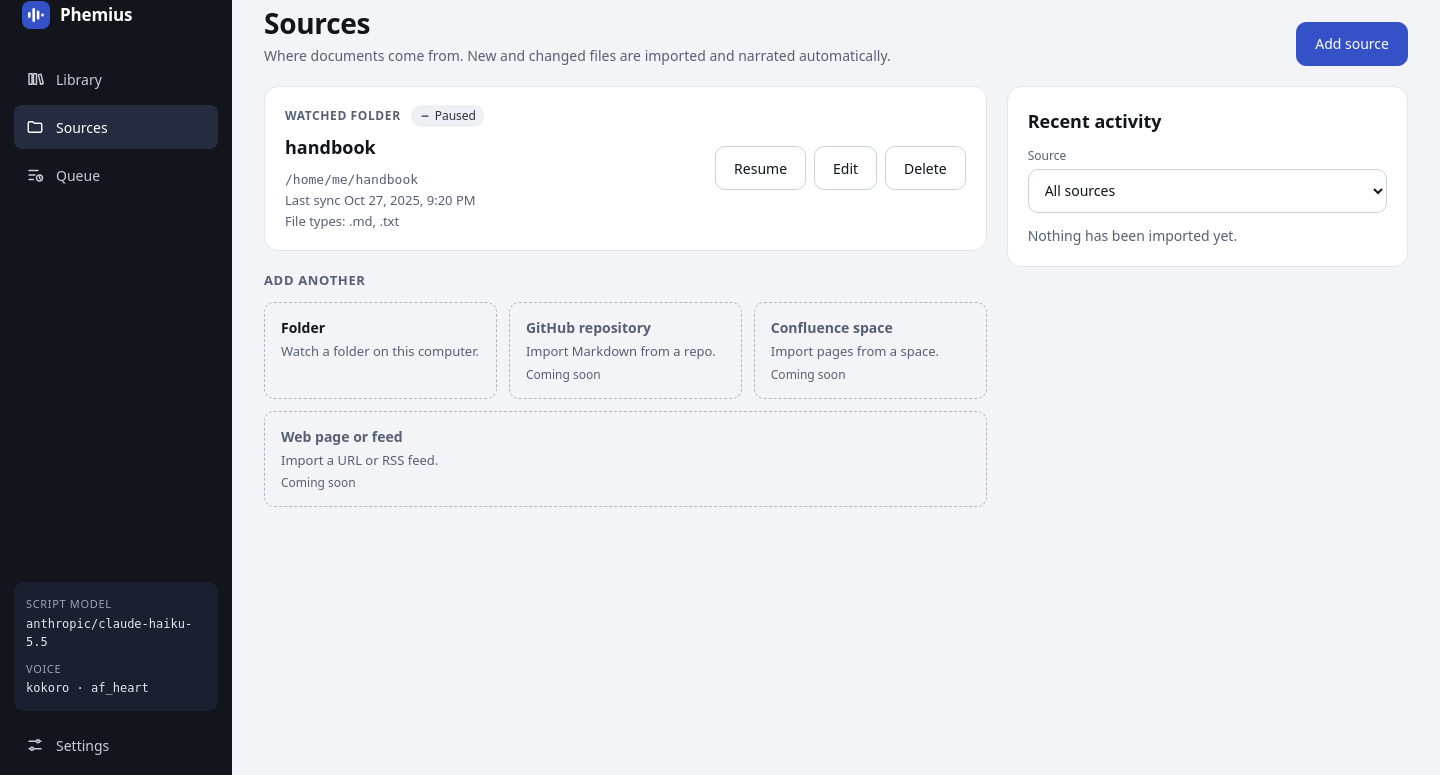
a source's excluded files › keeps the file and says why when a re-import fails
Click the button "Edit": coordinates (846, 168) [814,146,877,190]
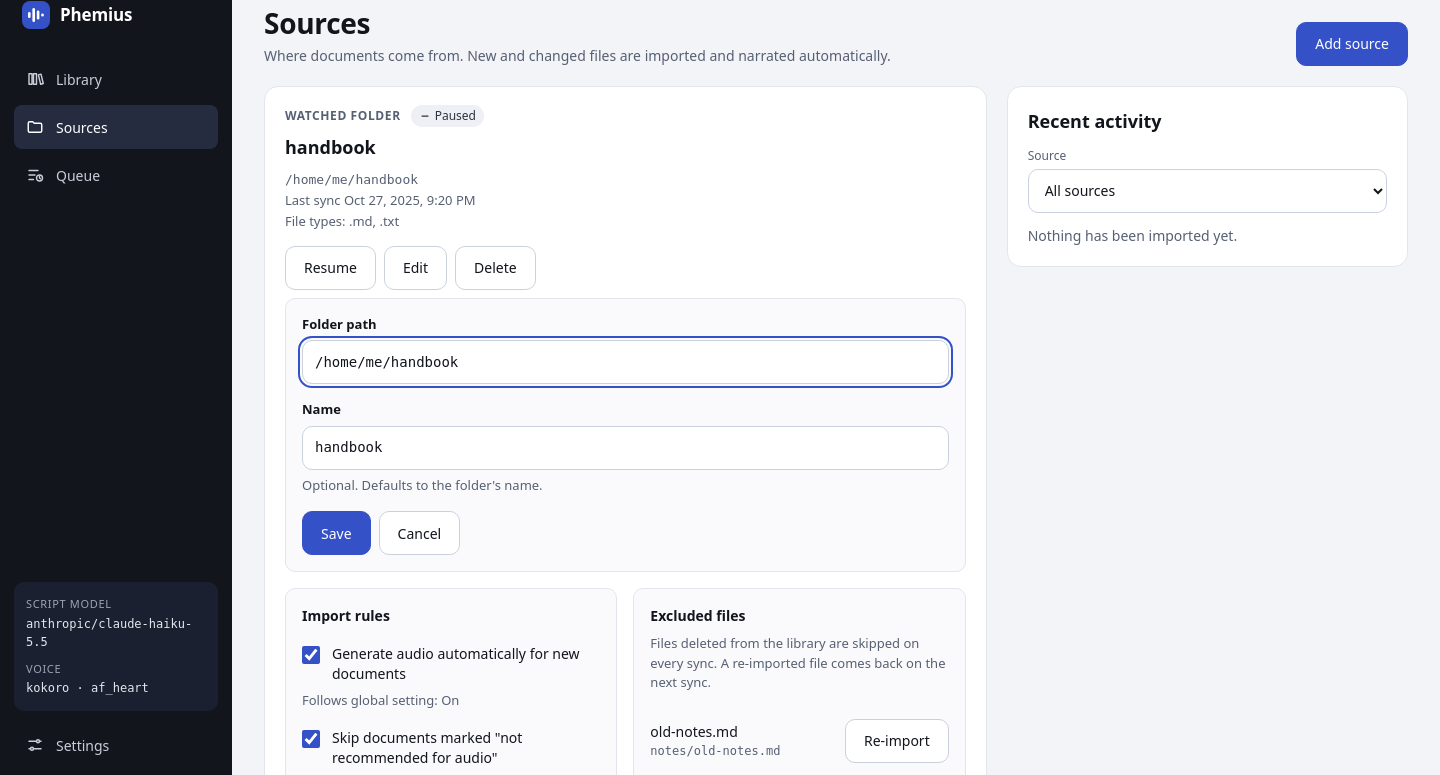
Click the button named "Re-import old-notes.md": coordinates (897, 741) [845,719,949,763]
(page scrolled)
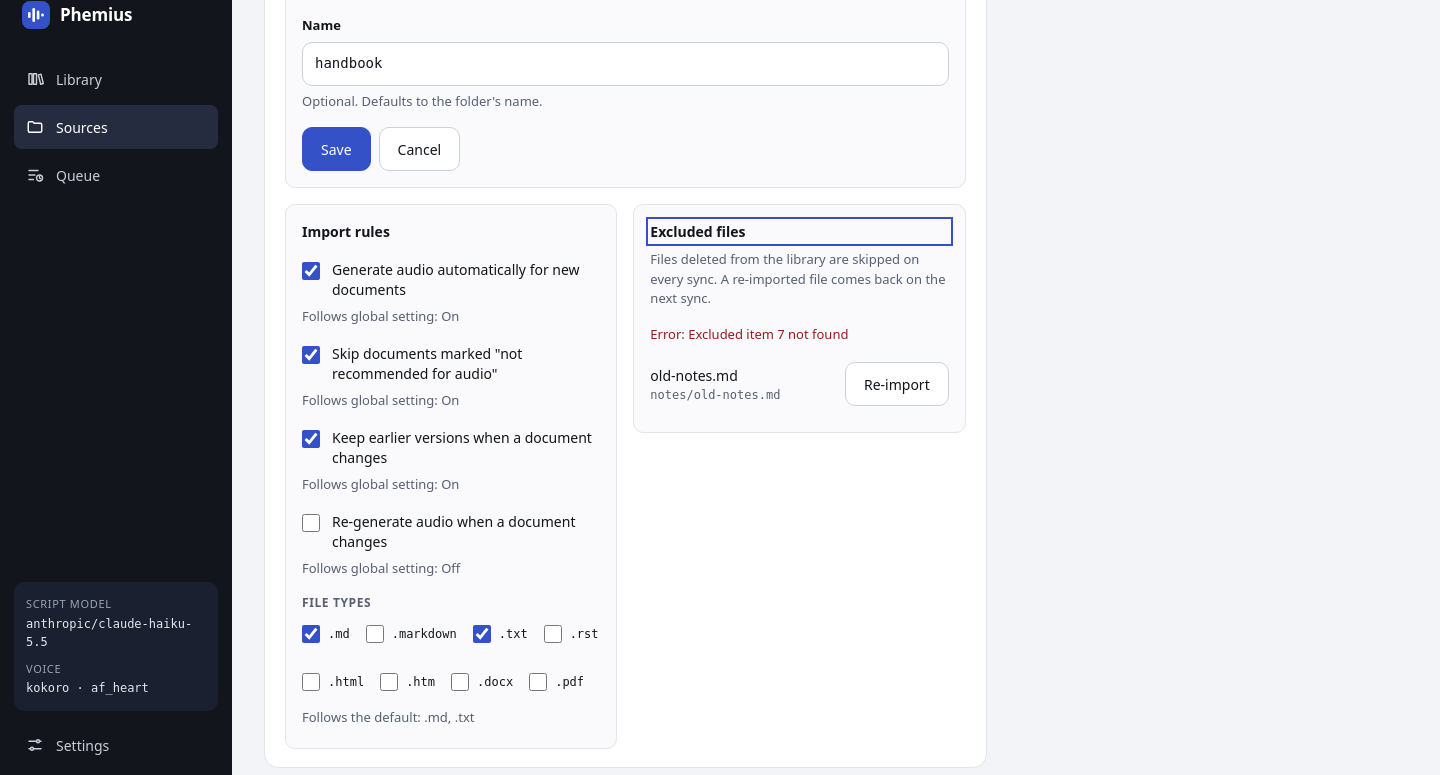
Now the button named "Re-import old-notes.md" is enabled, box [845,362,949,406]
Now the message shows "Excluded item 7 not found", box [688,325,848,343]
